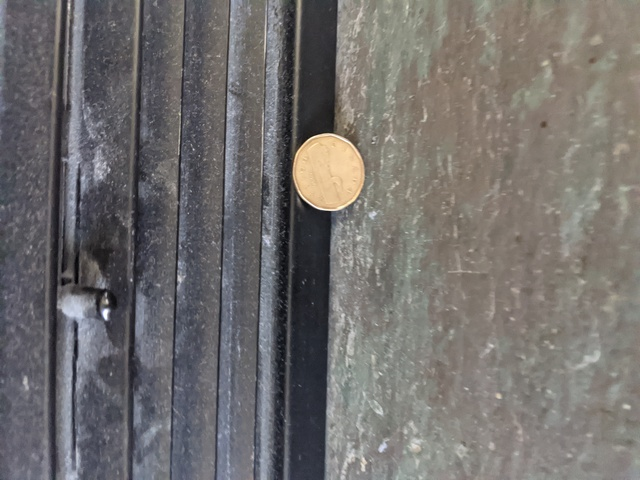loonie: (286, 131, 377, 212)
